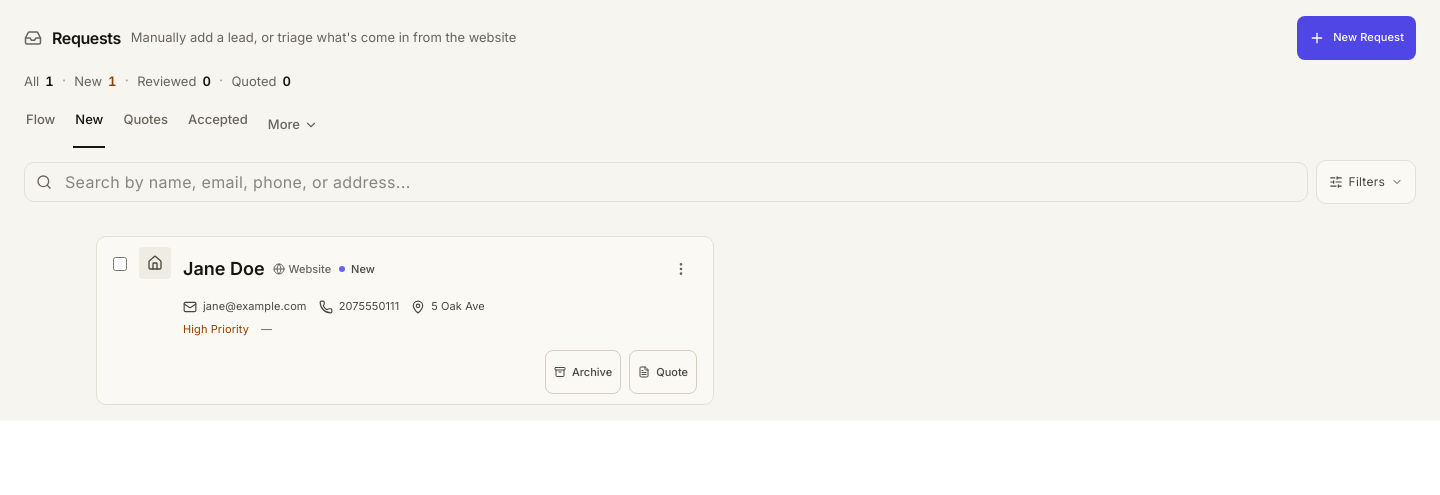
Scenario: Requests — archiving reports itself › removes the lead and offers Undo
Click the button "Archive": (583, 372) [545,350,621,394]
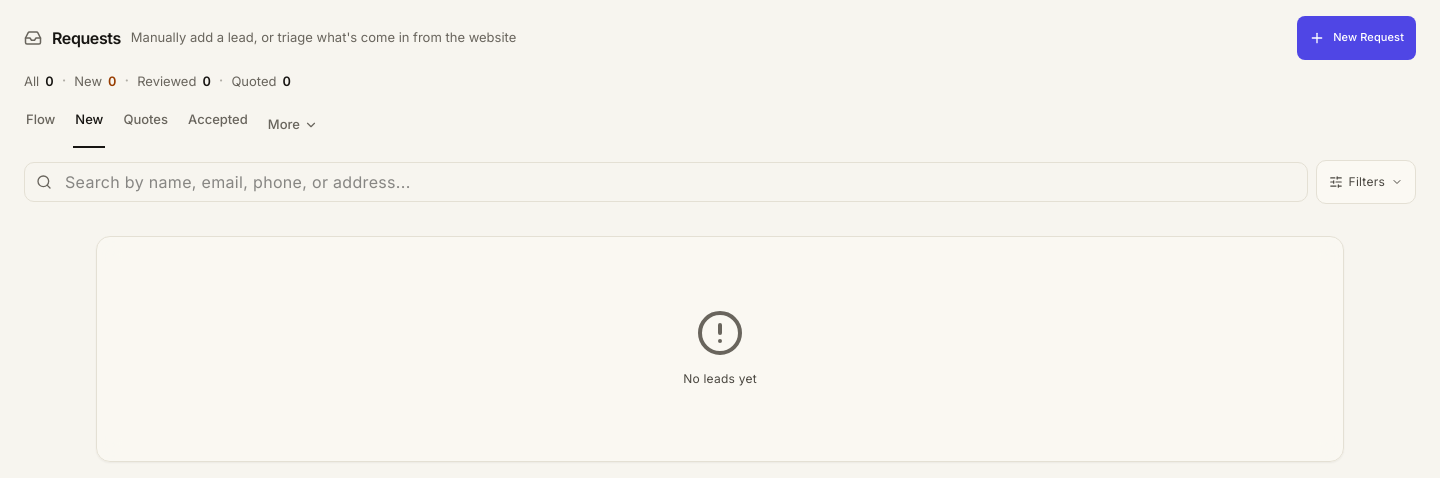
Expected: the button "Jane Doe" is gone
